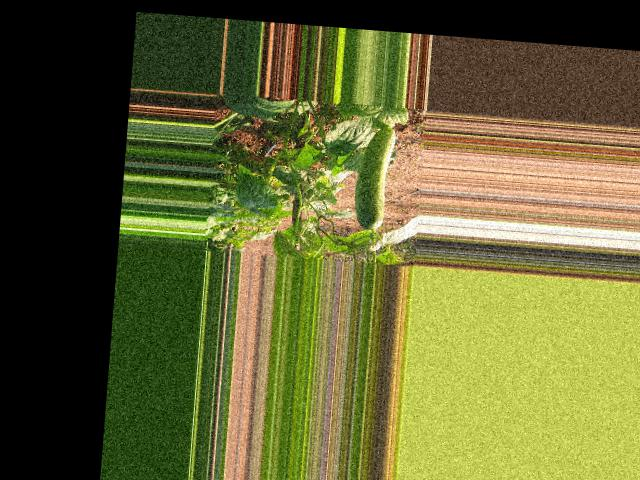cucumber: (353, 124, 396, 230)
